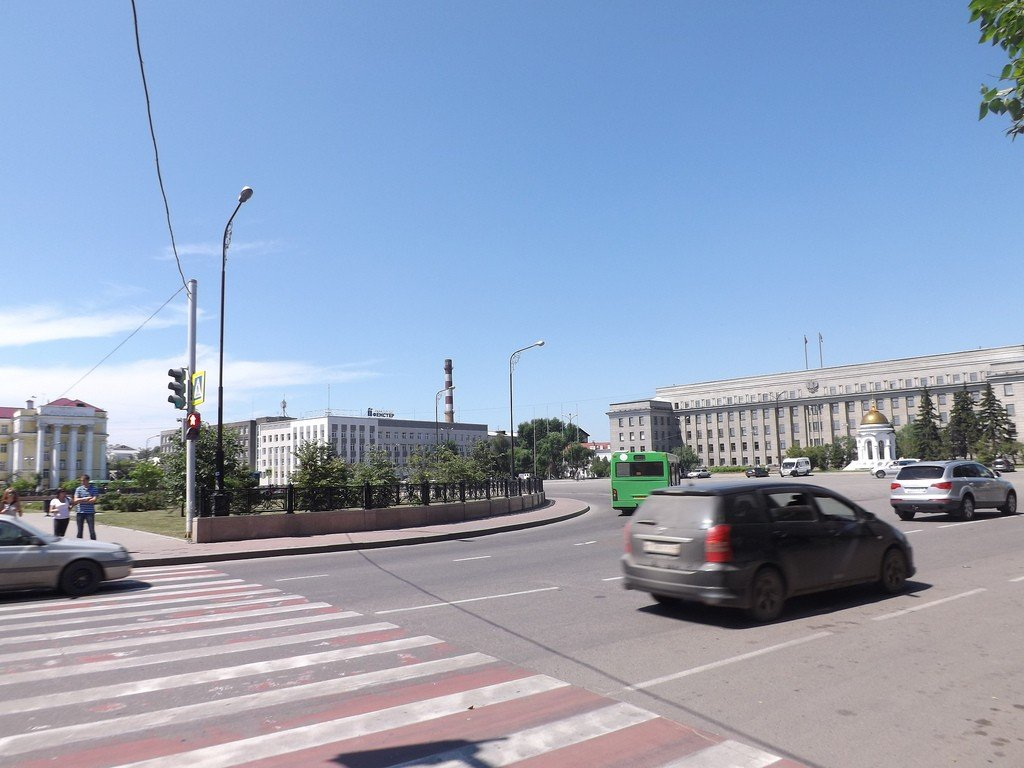sign: (182, 375, 215, 408)
